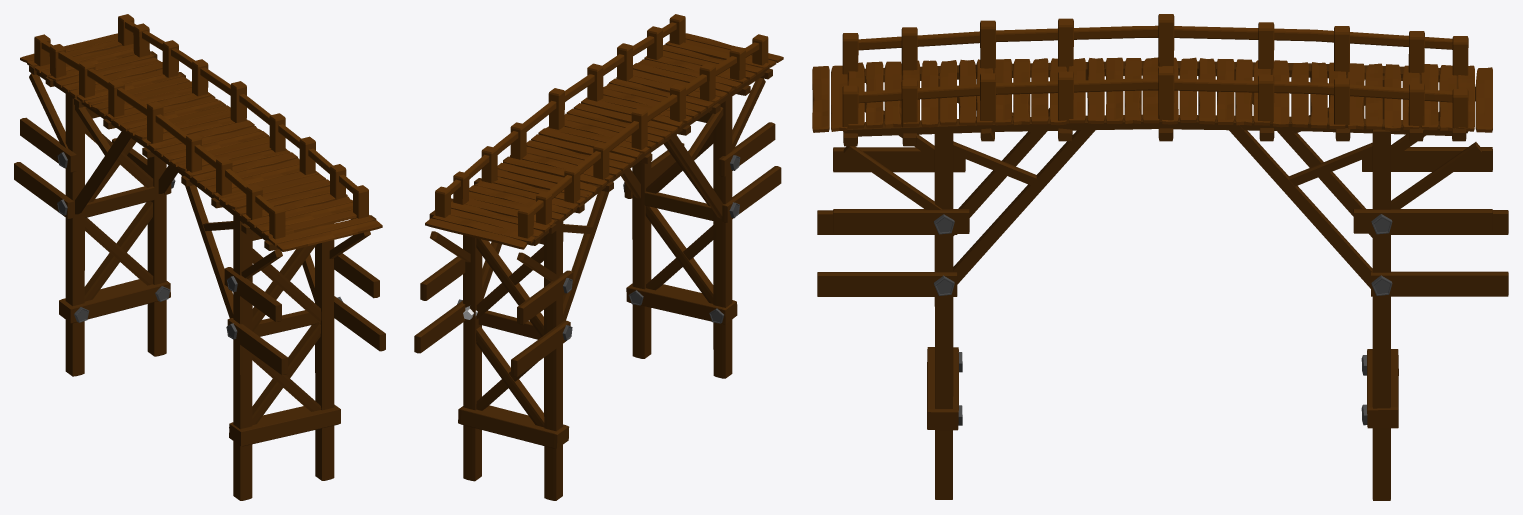
The model's file is bridge Eternal.fbx.
3 views of the same model, side by side, from view 1: azimuth 30°, elevation 25°; view 2: azimuth 150°, elevation 25°; view 3: azimuth 270°, elevation 25° (orthographic). The views are drawn at different scales.
Visible parts, largest first — view 1: Cube.025, Cube.043, Cube.003, Cube.037, Cube.021, Cube.013, Cube.014, Cube.004, Circle.006, Cube.016; view 2: Cube.003, Cube.043, Cube.025, Cube.021, Cube.037, Cube.013, Cube.014, Cube.004, Cube.016, Circle.006; view 3: Cube.043, Cube.003, Cube.025, Cube.037, Cube.021, Cube.013, Cube.014, Cube.034, Cube.016, Circle.006, Cube.004.
Part boxes in pixels (x1,y1,x2,y2): Cube.025: (181, 175, 385, 500); Cube.043: (20, 33, 382, 251); Cube.003: (14, 73, 177, 376); Cube.037: (118, 14, 368, 218); Cube.021: (34, 34, 285, 239); Cube.013: (125, 21, 357, 193); Cube.014: (41, 41, 273, 213); Cube.004: (36, 71, 270, 240); Circle.006: (57, 152, 342, 427); Cube.016: (29, 45, 376, 250); Cube.003: (414, 191, 608, 500); Cube.043: (425, 33, 783, 249); Cube.025: (621, 78, 781, 378); Cube.021: (517, 34, 768, 238); Cube.037: (435, 14, 685, 217); Cube.013: (447, 22, 676, 194); Cube.014: (529, 42, 759, 214); Cube.004: (531, 67, 769, 245); Cube.016: (429, 68, 772, 245); Circle.006: (457, 155, 740, 340); Cube.043: (812, 57, 1492, 132); Cube.003: (1229, 70, 1508, 500); Cube.025: (817, 76, 1094, 499); Cube.037: (842, 66, 1468, 133); Cube.021: (842, 14, 1468, 76); Cube.013: (858, 78, 1452, 103); Cube.014: (858, 25, 1452, 50); Cube.034: (844, 114, 1451, 136); Cube.016: (843, 75, 1466, 146); Circle.006: (933, 214, 1392, 425); Cube.004: (864, 61, 1440, 82).
Bounding box in the file's own units: 800 × 2264 × 3345.
